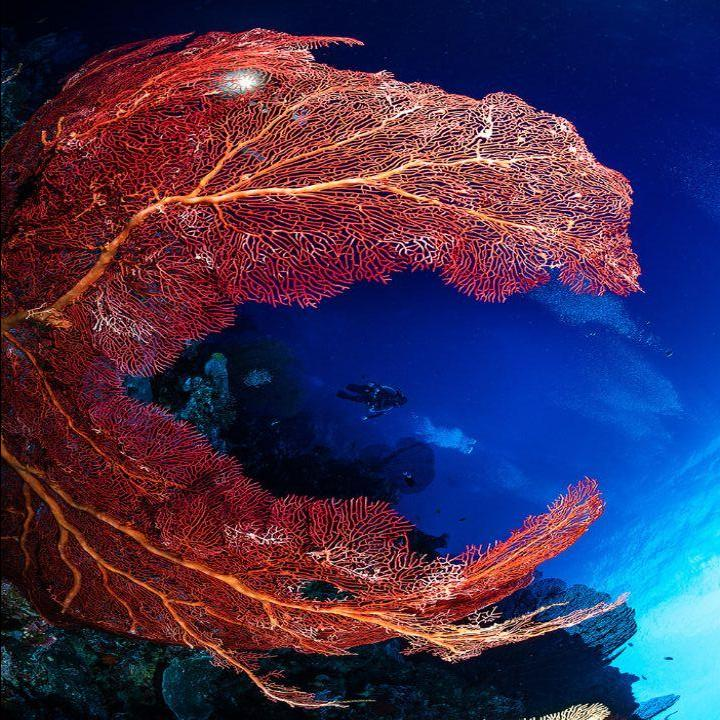Healthy Coral: (12, 24, 665, 708)
